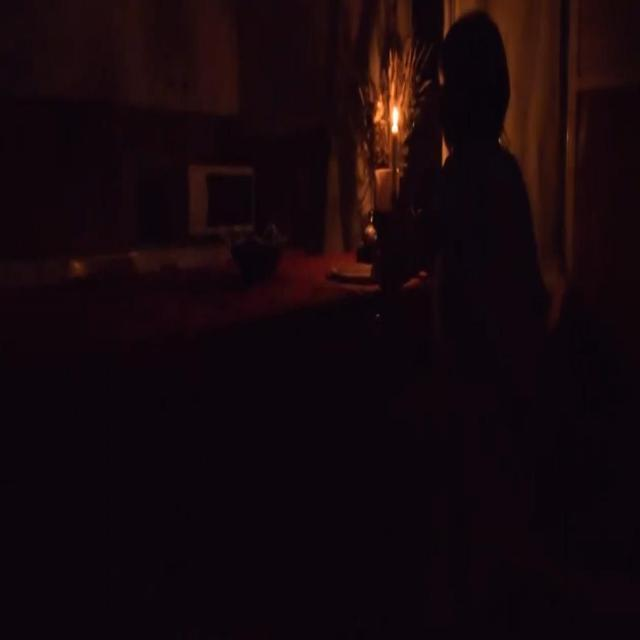smoke: (389, 101, 402, 132)
